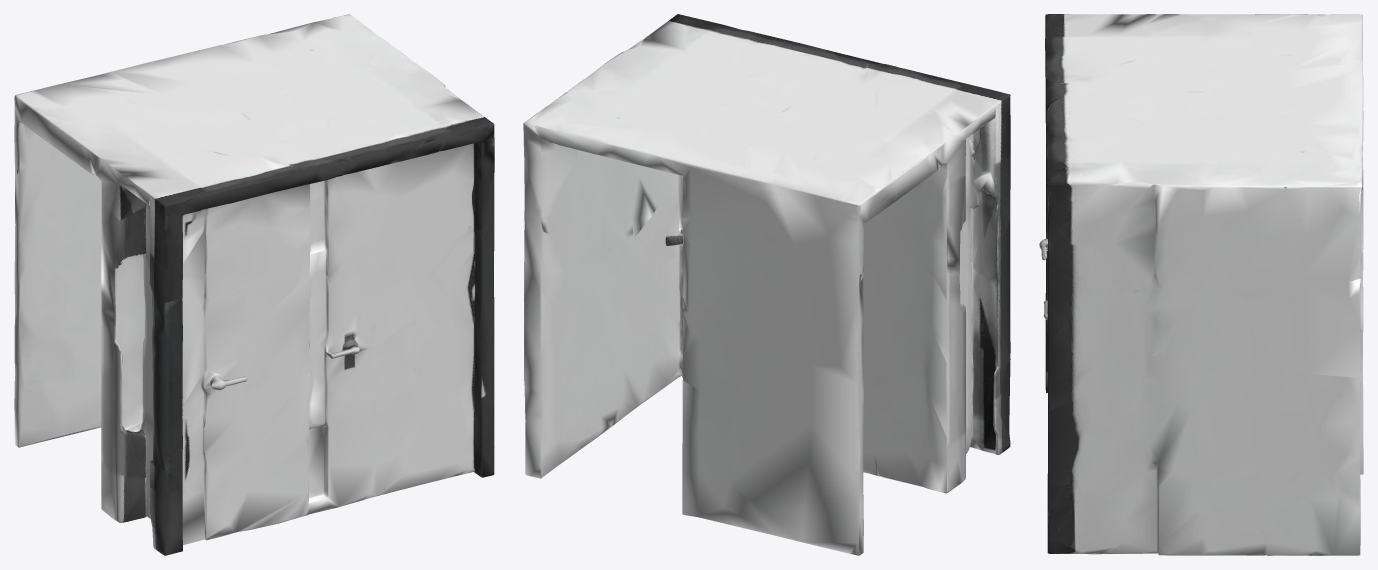
Rendered from door.glb.
3 renders of one model, left to right at view 1: azimuth 30°, elevation 25°; view 2: azimuth 150°, elevation 25°; view 3: azimuth 270°, elevation 25°, orthographic. The views are drawn at different scales.
Bounding box in the file's own units: 2.01 × 2.01 × 1.6.
1 material, 1 textured.
